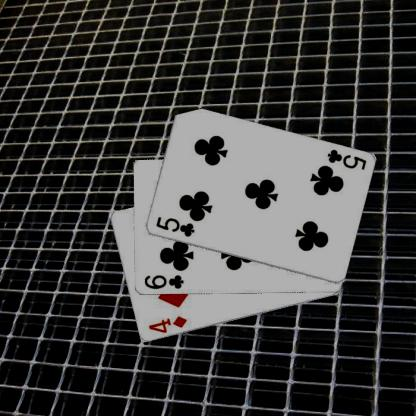4D: (146, 314, 188, 334)
5C: (153, 214, 195, 238), (324, 147, 366, 171)
6C: (142, 272, 184, 290)
